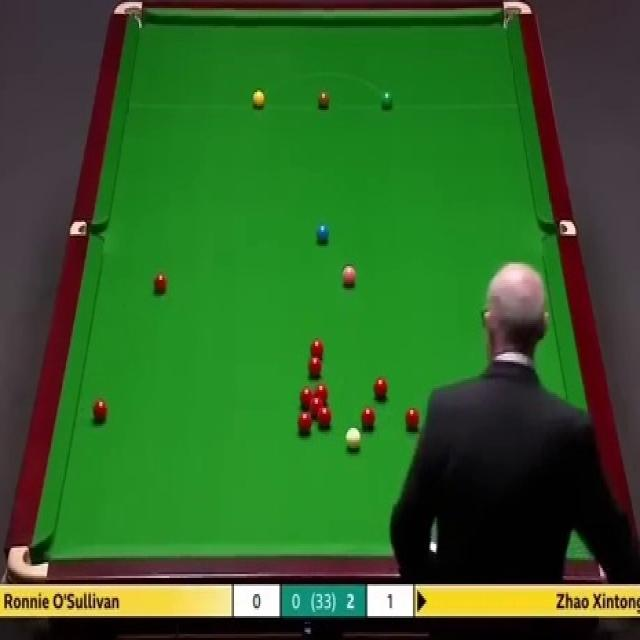blue-ball: (316, 222, 330, 247)
brown-ball: (317, 90, 330, 109)
green-ball: (381, 90, 394, 109)
pink-ball: (341, 262, 358, 290)
red-ball: (402, 406, 422, 434), (92, 397, 108, 428), (372, 374, 388, 403), (360, 406, 376, 434), (152, 270, 168, 295), (297, 412, 312, 436), (314, 383, 329, 406), (308, 356, 323, 379), (300, 386, 314, 410), (318, 406, 332, 429), (310, 398, 324, 418), (310, 341, 324, 358)
white-ball: (346, 428, 359, 452)
yellow-ball: (252, 90, 265, 109)
